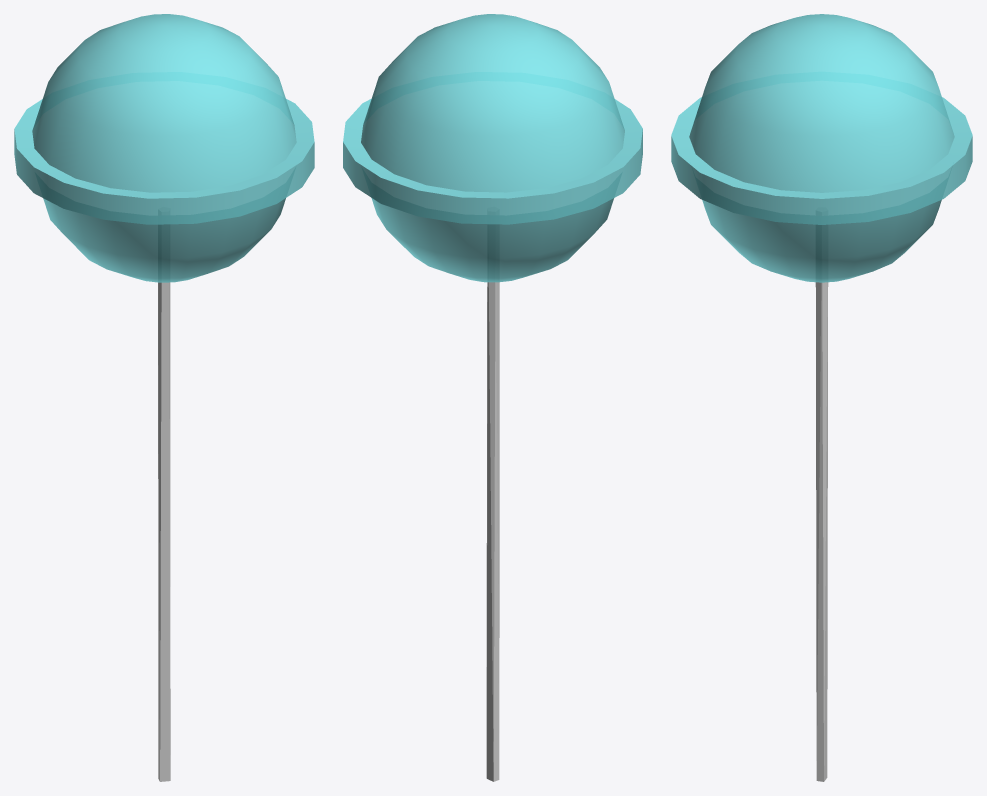
The model's file is lollipop-plant-blue.glb.
3 views of the same model, side by side, from view 1: azimuth 30°, elevation 25°; view 2: azimuth 150°, elevation 25°; view 3: azimuth 270°, elevation 25° (orthographic).
Visible parts, largest first — view 1: lollipop-plant-blue; view 2: lollipop-plant-blue; view 3: lollipop-plant-blue.
Part boxes in pixels (x1,y1,x2,y2): lollipop-plant-blue: (14,14,314,781); lollipop-plant-blue: (343,14,642,781); lollipop-plant-blue: (671,14,972,781).
Size of what is drawn, in the model's own units: 0.5415 by 1.49 by 0.5415.
